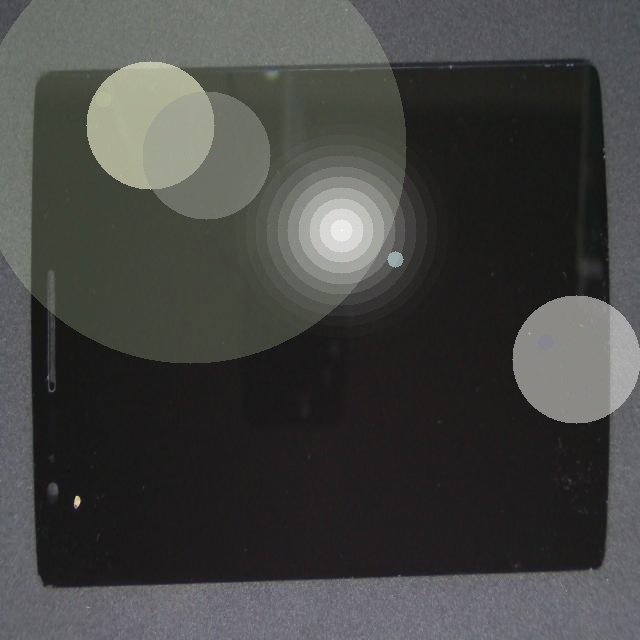stain: (29, 262, 87, 640)
